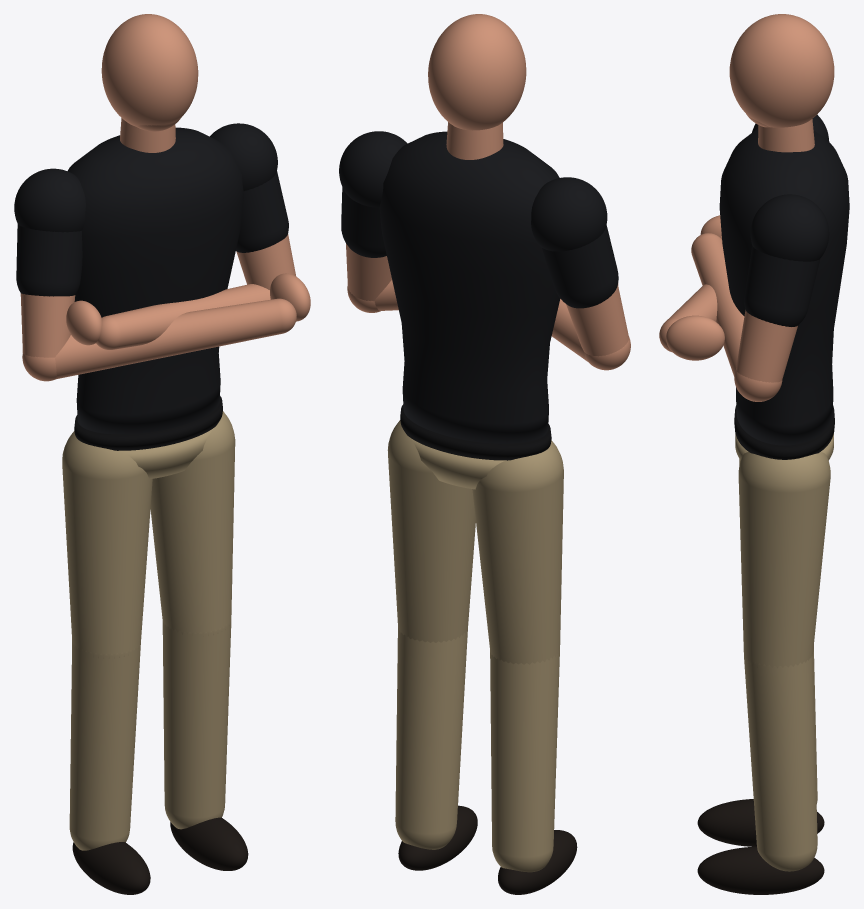
The model's file is placeholder-figure.glb.
3 views of the same model, side by side, from view 1: azimuth 30°, elevation 25°; view 2: azimuth 150°, elevation 25°; view 3: azimuth 270°, elevation 25° (orthographic).
Parts seen in each view (by area): view 1: Figure; view 2: Figure; view 3: Figure.
Part boxes in pixels (x1,y1,x2,y2): Figure: [14, 14, 310, 894]; Figure: [339, 14, 630, 894]; Figure: [659, 14, 849, 894].
Size of the model in its own units: 0.602 by 1.79 by 0.363.
